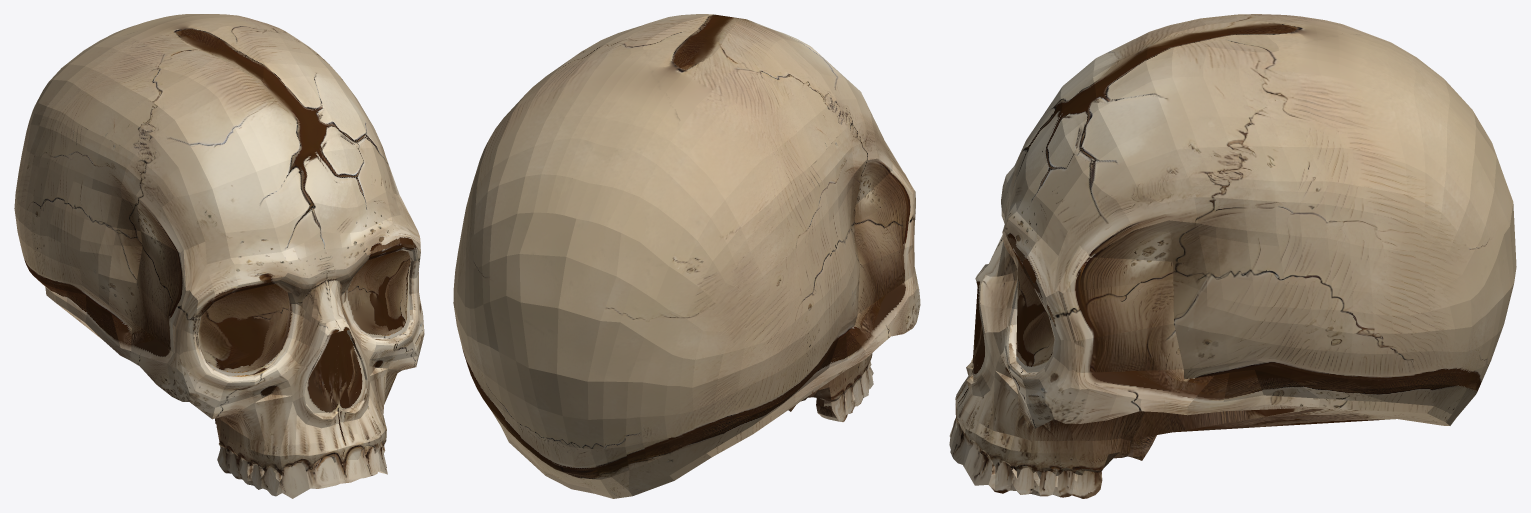
The model's file is Craneo IA(Práctica_Nueva Retopologia)_2.fbx.
The picture shows the model from 3 angles, left to right: view 1: azimuth 30°, elevation 25°; view 2: azimuth 150°, elevation 25°; view 3: azimuth 270°, elevation 25°; orthographic projection. The views are drawn at different scales.
Parts seen in each view (by area): view 1: Low_Poly(NUEVA RETOPOLOGIA)_2; view 2: Low_Poly(NUEVA RETOPOLOGIA)_2; view 3: Low_Poly(NUEVA RETOPOLOGIA)_2.
Part boxes in pixels (<box>): Low_Poly(NUEVA RETOPOLOGIA)_2: <box>14,14,424,498</box>; Low_Poly(NUEVA RETOPOLOGIA)_2: <box>453,14,920,498</box>; Low_Poly(NUEVA RETOPOLOGIA)_2: <box>949,14,1516,498</box>.
Bounding box in the file's own units: 0.6392 × 0.7756 × 0.9361.
